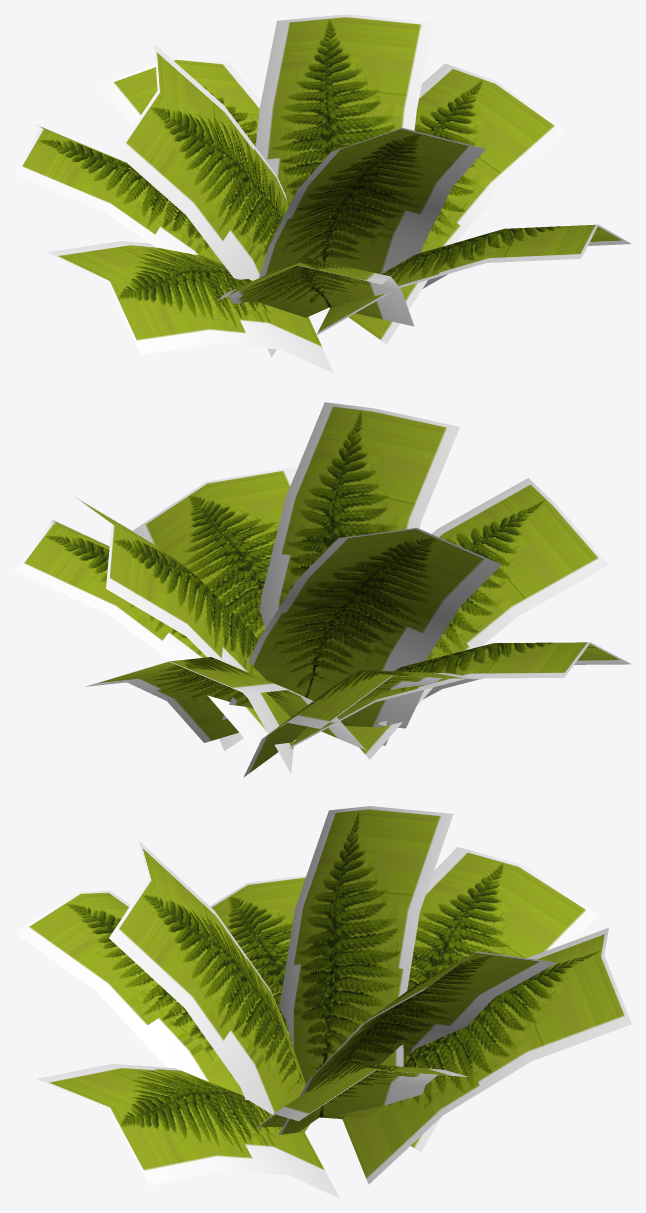
File: fern1.FBX
The picture shows the model from 3 angles, top to bottom: view 1: azimuth 30°, elevation 25°; view 2: azimuth 150°, elevation 25°; view 3: azimuth 270°, elevation 25°; orthographic projection. The views are drawn at different scales.
Visible parts, largest first — view 1: fern1; view 2: fern1; view 3: fern1.
Boxes of the visible parts, <box> form: fern1: <box>14,14,631,373</box>; fern1: <box>14,402,630,776</box>; fern1: <box>14,806,631,1198</box>.
Size of the model in its own units: 29.42 by 15.6 by 29.07.
